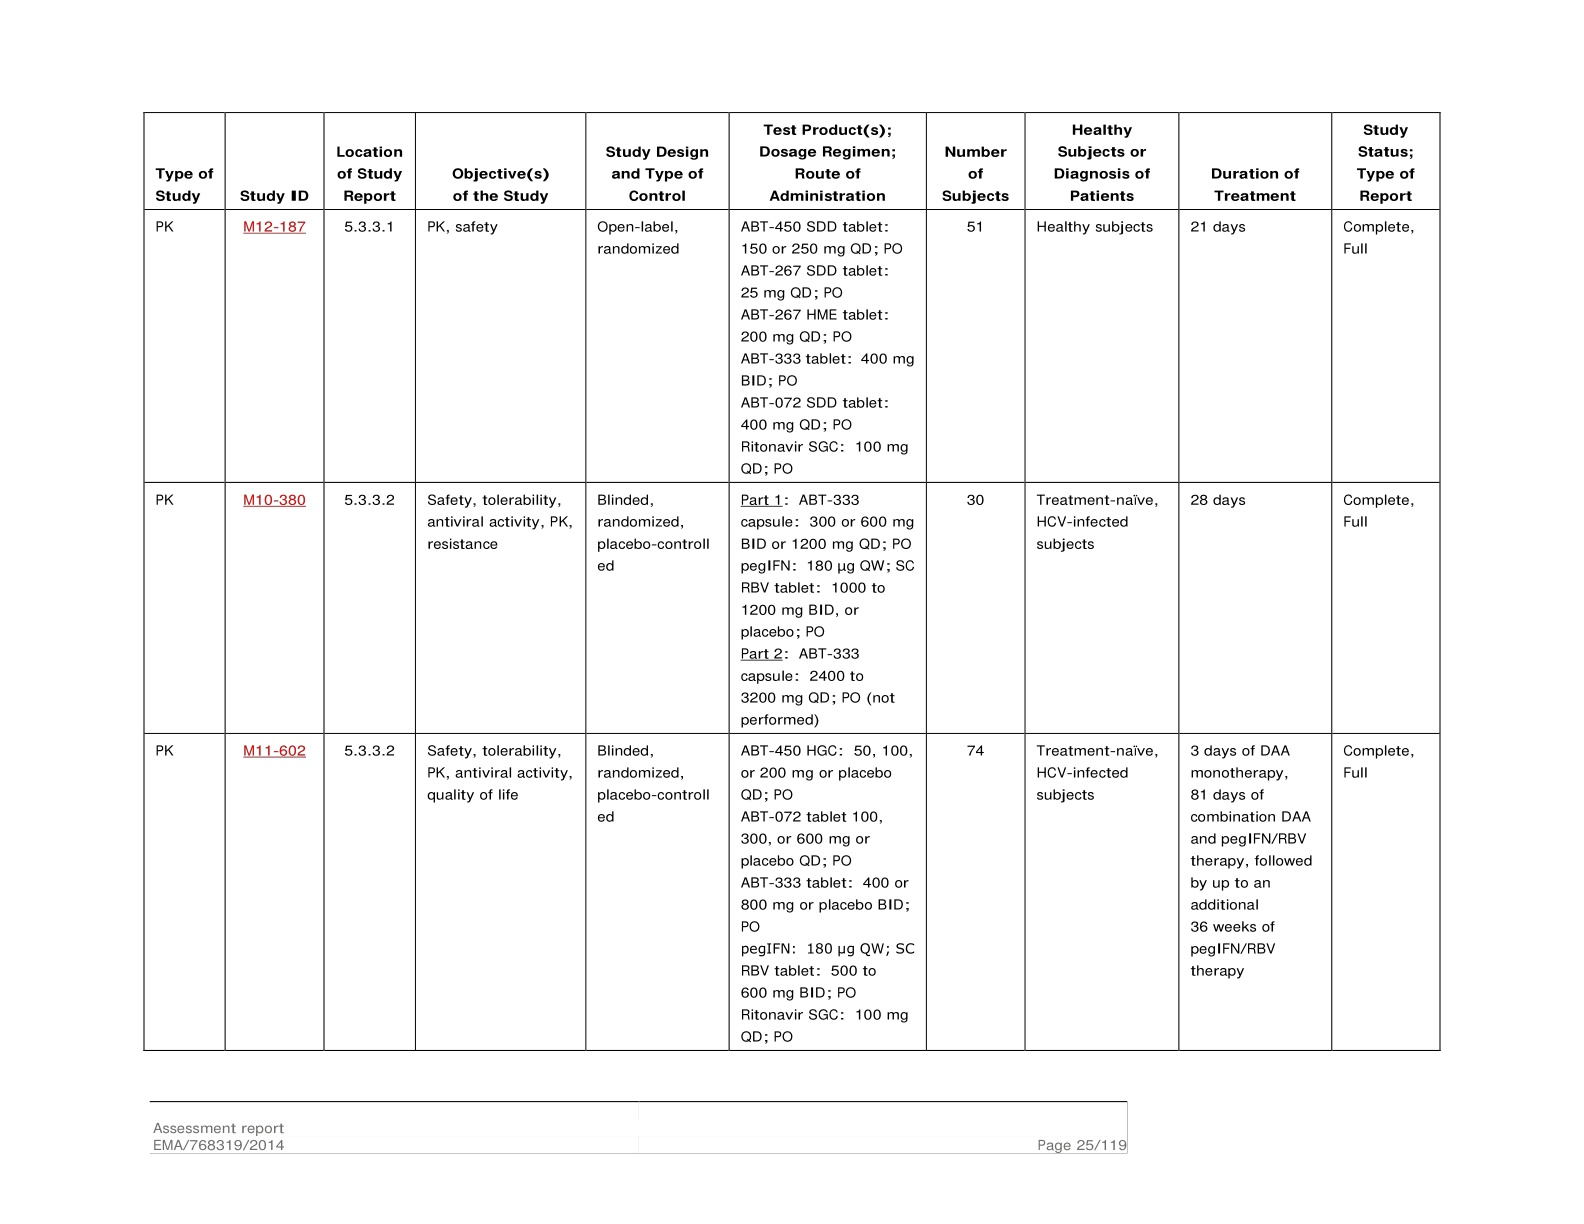full_lined: (141, 111, 1443, 1053)
